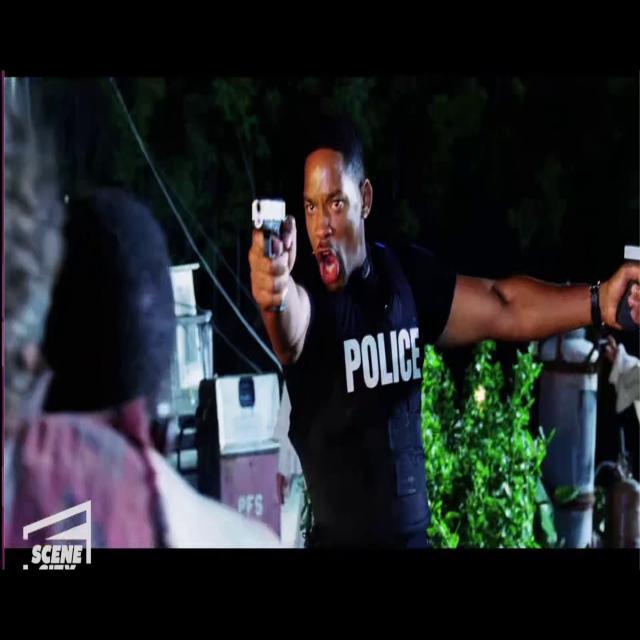weapons: (246, 175, 291, 332)
